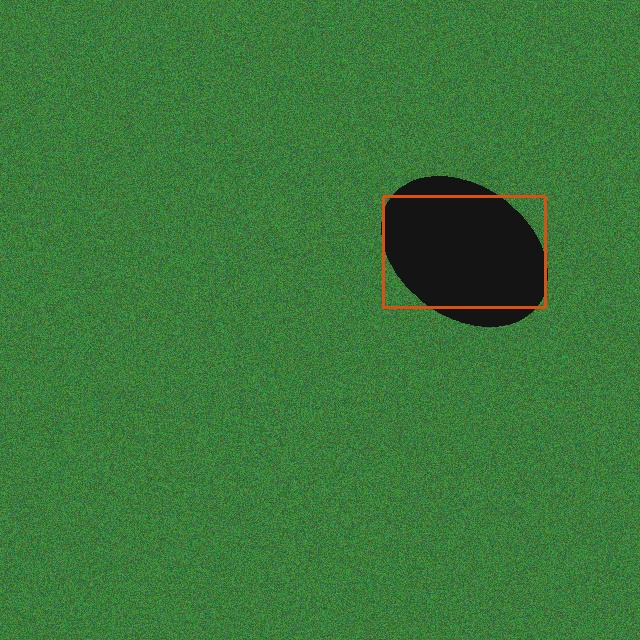blister beetle: (373, 186, 555, 317)
